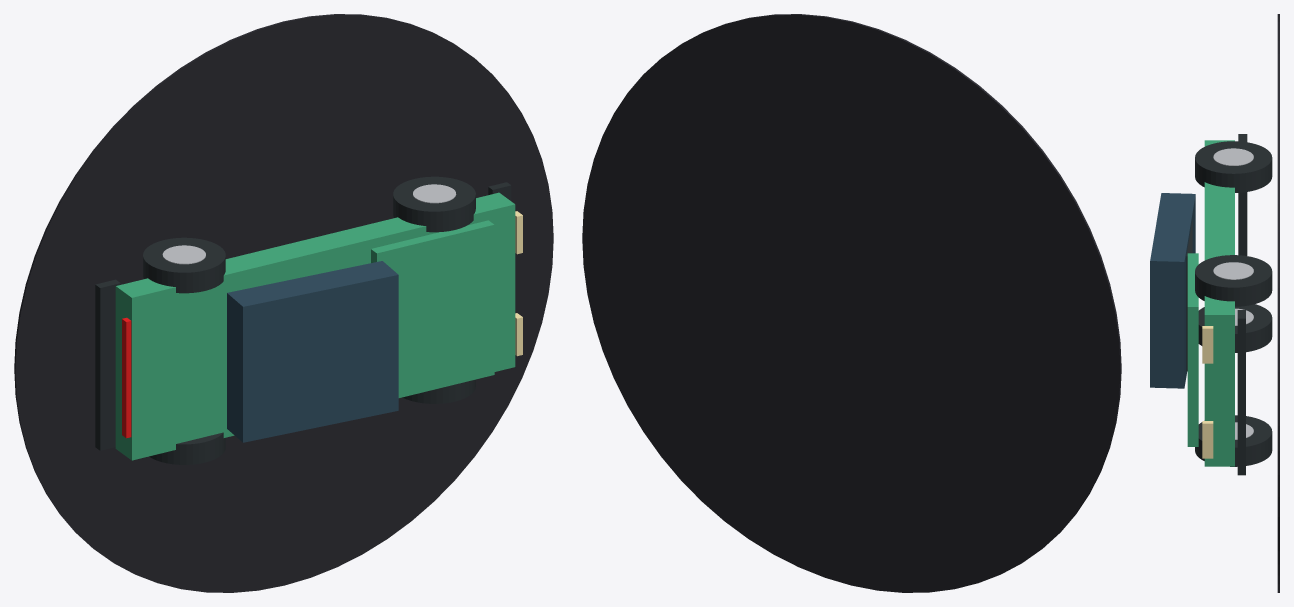
File: aston-martin-valkyrie.glb
3 renders of one model, left to right at view 1: azimuth 30°, elevation 25°; view 2: azimuth 150°, elevation 25°; view 3: azimuth 270°, elevation 25°, orthographic. The views are drawn at different scales.
Parts seen in each view (by area): view 1: world; view 2: world; view 3: world.
Part boxes in pixels (<box>): world: <box>14,14,553,592</box>; world: <box>582,14,1121,592</box>; world: <box>1150,14,1279,592</box>.
Bounding box in the file's own units: 6.3 × 6.3 × 1.41.
